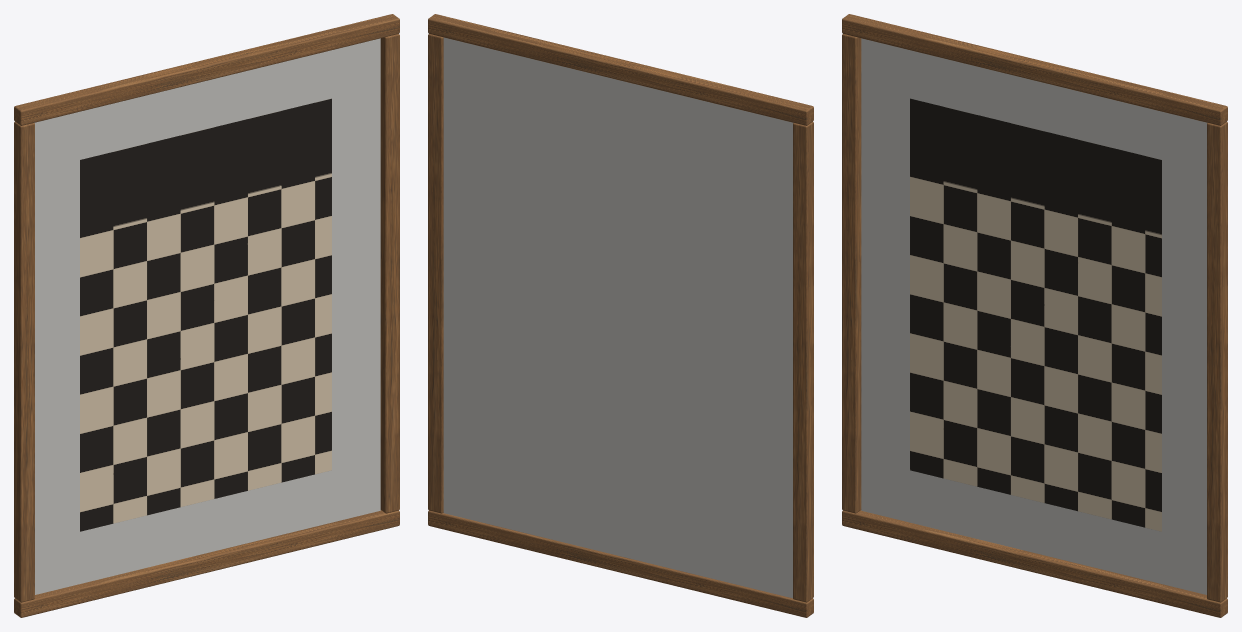
The model's file is living-art.glb.
3 views of the same model, side by side, from view 1: azimuth 30°, elevation 25°; view 2: azimuth 150°, elevation 25°; view 3: azimuth 330°, elevation 25° (orthographic).
Parts seen in each view (by area): view 1: frame_7_art, frame_7_mat, frame_7_l, frame_7_r, frame_7_t, frame_7_b; view 2: frame_7_mat, frame_7_l, frame_7_t, frame_7_r, frame_7_b; view 3: frame_7_art, frame_7_mat, frame_7_r, frame_7_l, frame_7_t, frame_7_b.
Boxes of the visible parts, <box> form: frame_7_art: <box>80,98,331,531</box>; frame_7_mat: <box>34,38,380,594</box>; frame_7_l: <box>14,122,34,602</box>; frame_7_r: <box>380,34,399,513</box>; frame_7_t: <box>14,14,399,125</box>; frame_7_b: <box>14,510,399,617</box>; frame_7_mat: <box>443,37,793,598</box>; frame_7_l: <box>793,122,813,602</box>; frame_7_t: <box>428,14,813,125</box>; frame_7_r: <box>428,34,443,513</box>; frame_7_b: <box>428,510,813,617</box>; frame_7_art: <box>910,98,1161,531</box>; frame_7_mat: <box>861,38,1207,594</box>; frame_7_r: <box>1207,122,1227,602</box>; frame_7_l: <box>842,34,861,513</box>; frame_7_t: <box>842,14,1227,125</box>; frame_7_b: <box>842,510,1227,617</box>.
Size of the model in its own units: 0.9 by 1.15 by 0.03.
3 materials, 2 textured.
